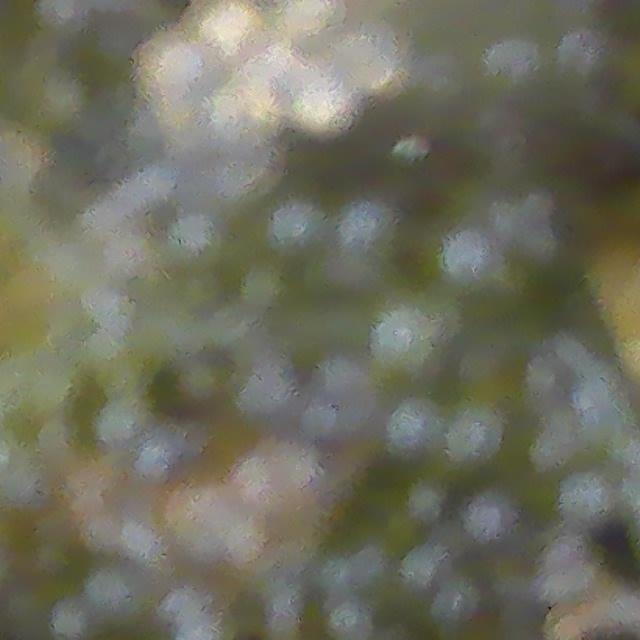SeaGrape: (366, 294, 448, 380), (443, 399, 507, 466), (137, 39, 202, 104), (223, 72, 290, 134), (348, 28, 409, 93), (382, 396, 444, 458), (293, 67, 346, 137), (193, 0, 265, 45)
